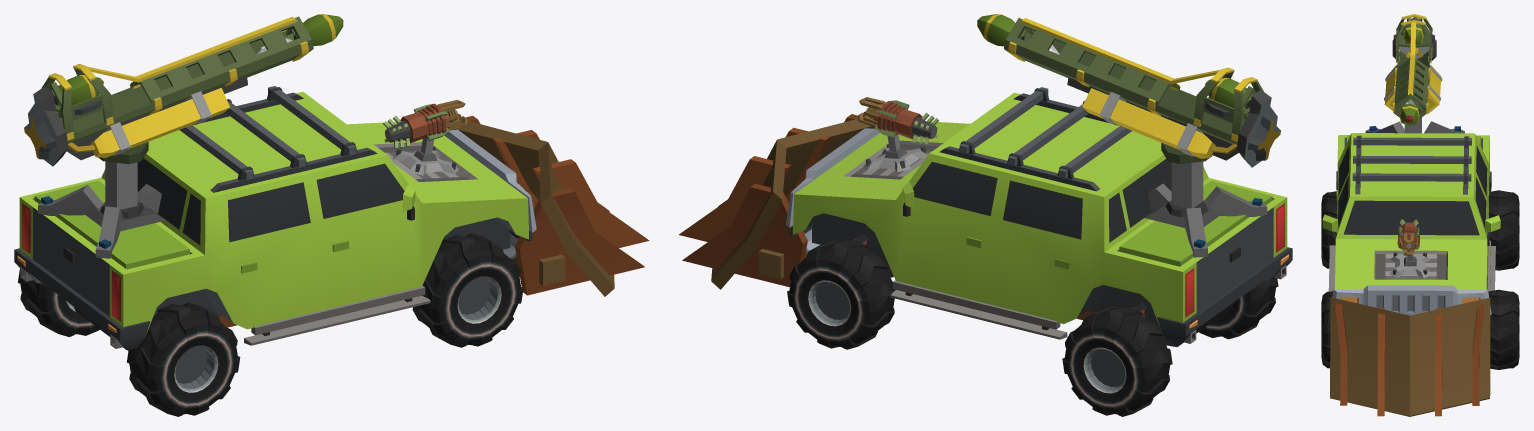
The model's file is car 1 .fbx.
3 renders of one model, left to right at view 1: azimuth 30°, elevation 25°; view 2: azimuth 150°, elevation 25°; view 3: azimuth 270°, elevation 25°, orthographic. The views are drawn at different scales.
Visible parts, largest first — view 1: Car.001_Circle.000_Car_0.001, Car.001_Circle.000_Car_0.003, Wheel_FR_5_Eagle_0.002, Wheel_FR_5_Eagle_0.001, Car.001_Circle.000_Car_0.004, Wheel_FR_5_Eagle_0.004, Car.001_Circle.000_Car_0.002; view 2: Car.001_Circle.000_Car_0.001, Car.001_Circle.000_Car_0.003, Wheel_FR_5_Eagle_0.004, Wheel_FR_5_Eagle_0.003, Car.001_Circle.000_Car_0.004, Wheel_FR_5_Eagle_0.002, Car.001_Circle.000_Car_0.002; view 3: Car.001_Circle.000_Car_0.001, Car.001_Circle.000_Car_0.003, Wheel_FR_5_Eagle_0.003, Wheel_FR_5_Eagle_0.004, Wheel_FR_5_Eagle_0.002, Wheel_FR_5_Eagle_0.001, Car.001_Circle.000_Car_0.004, Car.001_Circle.000_Car_0.002.
Part boxes in pixels (x1,y1,x2,y2): Car.001_Circle.000_Car_0.001: (14, 86, 649, 350); Car.001_Circle.000_Car_0.003: (24, 16, 313, 166); Wheel_FR_5_Eagle_0.002: (127, 302, 240, 416); Wheel_FR_5_Eagle_0.001: (412, 233, 523, 347); Car.001_Circle.000_Car_0.004: (383, 100, 467, 148); Wheel_FR_5_Eagle_0.004: (18, 268, 99, 336); Car.001_Circle.000_Car_0.002: (256, 14, 343, 54); Car.001_Circle.000_Car_0.001: (679, 87, 1292, 346); Car.001_Circle.000_Car_0.003: (1004, 18, 1280, 167); Wheel_FR_5_Eagle_0.004: (1062, 306, 1172, 416); Wheel_FR_5_Eagle_0.003: (787, 238, 895, 349); Car.001_Circle.000_Car_0.004: (857, 97, 938, 145); Wheel_FR_5_Eagle_0.002: (1199, 278, 1278, 339); Car.001_Circle.000_Car_0.002: (977, 14, 1059, 54); Car.001_Circle.000_Car_0.001: (1322, 117, 1500, 416); Car.001_Circle.000_Car_0.003: (1384, 14, 1442, 125); Wheel_FR_5_Eagle_0.003: (1488, 289, 1519, 369); Wheel_FR_5_Eagle_0.004: (1489, 190, 1519, 270); Wheel_FR_5_Eagle_0.002: (1321, 191, 1337, 268); Wheel_FR_5_Eagle_0.001: (1321, 291, 1332, 368); Car.001_Circle.000_Car_0.004: (1397, 219, 1419, 255); Car.001_Circle.000_Car_0.002: (1399, 99, 1419, 125).
Size of the model in its own units: 380 by 196 by 153.
Materials: 6 (6 with a texture image).
